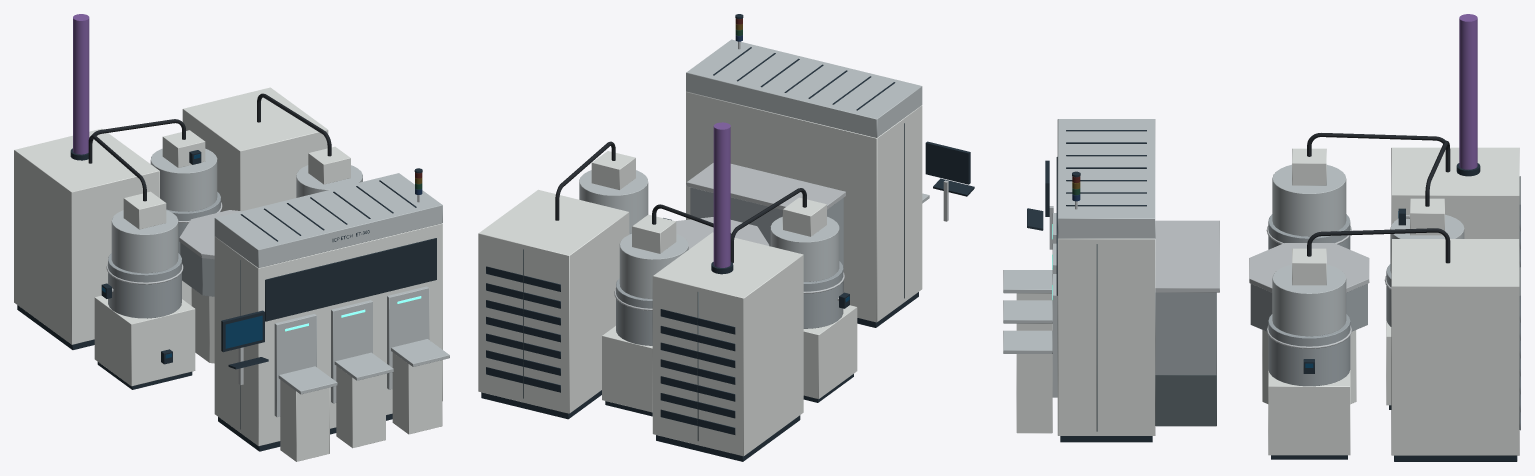
File: fab1-tool-etch.glb
3 views of the same model, side by side, from view 1: azimuth 30°, elevation 25°; view 2: azimuth 150°, elevation 25°; view 3: azimuth 270°, elevation 25° (orthographic). The views are drawn at different scales.
Parts seen in each view (by area): view 1: TOOL_ETCH_EFEM, TOOL_ETCH_Cabinets, TOOL_ETCH_LoadPorts, TOOL_ETCH_PM1, TOOL_ETCH_PM2, TOOL_ETCH_TransferChamber, TOOL_ETCH_Exhaust, TOOL_ETCH_PM3, TOOL_ETCH_RFFeeds, TOOL_ETCH_Operator, TOOL_HMI_Screen; view 2: TOOL_ETCH_Cabinets, TOOL_ETCH_EFEM, TOOL_ETCH_PM1, TOOL_ETCH_PM2, TOOL_ETCH_LoadLocks, TOOL_ETCH_PM3, TOOL_ETCH_Exhaust, TOOL_ETCH_Operator, TOOL_ETCH_RFFeeds, TOOL_ETCH_TransferChamber; view 3: TOOL_ETCH_Cabinets, TOOL_ETCH_EFEM, TOOL_ETCH_PM3, TOOL_ETCH_LoadLocks, TOOL_ETCH_LoadPorts, TOOL_ETCH_PM1, TOOL_ETCH_TransferChamber, TOOL_ETCH_Exhaust, TOOL_ETCH_PM2, TOOL_ETCH_RFFeeds, TOOL_ETCH_Operator.
Part boxes in pixels (left/top/right/bottom): TOOL_ETCH_EFEM: left=214, top=173, right=442, bottom=451; TOOL_ETCH_Cabinets: left=14, top=87, right=328, bottom=349; TOOL_ETCH_LoadPorts: left=274, top=286, right=449, bottom=461; TOOL_ETCH_PM1: left=94, top=191, right=195, bottom=389; TOOL_ETCH_PM2: left=150, top=130, right=222, bottom=305; TOOL_ETCH_TransferChamber: left=179, top=210, right=240, bottom=363; TOOL_ETCH_Exhaust: left=70, top=14, right=89, bottom=160; TOOL_ETCH_PM3: left=296, top=146, right=362, bottom=197; TOOL_ETCH_RFFeeds: left=88, top=93, right=331, bottom=201; TOOL_ETCH_Operator: left=221, top=310, right=268, bottom=385; TOOL_HMI_Screen: left=225, top=315, right=262, bottom=348; TOOL_ETCH_Cabinets: left=478, top=189, right=803, bottom=461; TOOL_ETCH_EFEM: left=686, top=39, right=922, bottom=327; TOOL_ETCH_PM1: left=770, top=197, right=857, bottom=402; TOOL_ETCH_PM2: left=602, top=214, right=688, bottom=416; TOOL_ETCH_LoadLocks: left=686, top=163, right=845, bottom=292; TOOL_ETCH_PM3: left=579, top=151, right=648, bottom=234; TOOL_ETCH_Exhaust: left=711, top=122, right=733, bottom=274; TOOL_ETCH_Operator: left=925, top=141, right=974, bottom=221; TOOL_ETCH_RFFeeds: left=555, top=141, right=806, bottom=262; TOOL_ETCH_TransferChamber: left=676, top=217, right=769, bottom=249; TOOL_ETCH_Cabinets: left=1391, top=147, right=1520, bottom=461; TOOL_ETCH_EFEM: left=1056, top=119, right=1155, bottom=442; TOOL_ETCH_PM3: left=1266, top=248, right=1351, bottom=459; TOOL_ETCH_LoadLocks: left=1155, top=220, right=1219, bottom=426; TOOL_ETCH_LoadPorts: left=1003, top=213, right=1057, bottom=433; TOOL_ETCH_PM1: left=1266, top=148, right=1351, bottom=249; TOOL_ETCH_TransferChamber: left=1249, top=243, right=1369, bottom=404; TOOL_ETCH_Exhaust: left=1456, top=14, right=1480, bottom=176; TOOL_ETCH_PM2: left=1384, top=198, right=1464, bottom=409; TOOL_ETCH_RFFeeds: left=1307, top=133, right=1450, bottom=263; TOOL_ETCH_Operator: left=1027, top=160, right=1053, bottom=249.
Bounding box in the file's own units: 3.33 × 3.55 × 5.04.
Materials: 3 (1 with a texture image).
